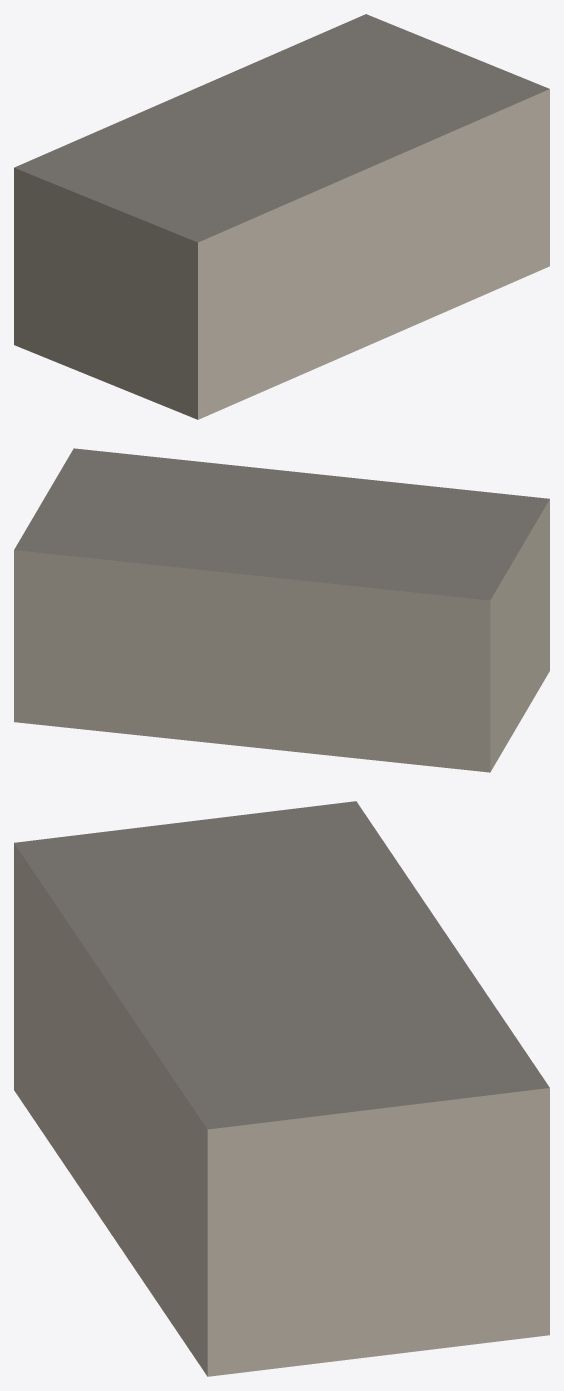
The picture shows the model from 3 angles, top to bottom: view 1: azimuth 30°, elevation 25°; view 2: azimuth 150°, elevation 25°; view 3: azimuth 270°, elevation 25°; orthographic projection. The views are drawn at different scales.
Parts seen in each view (by area): view 1: HP-w299224155; view 2: HP-w299224155; view 3: HP-w299224155.
Part boxes in pixels (x1=…): HP-w299224155: x1=14, y1=14, x2=549, y2=419; HP-w299224155: x1=14, y1=448, x2=549, y2=772; HP-w299224155: x1=14, y1=801, x2=549, y2=1376.
Size of the model in its own units: 51.26 by 18 by 35.36.
